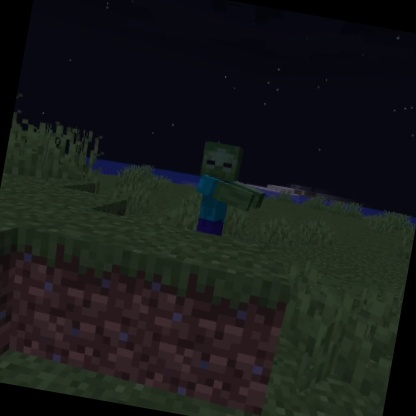zombie: (181, 137, 275, 243)
